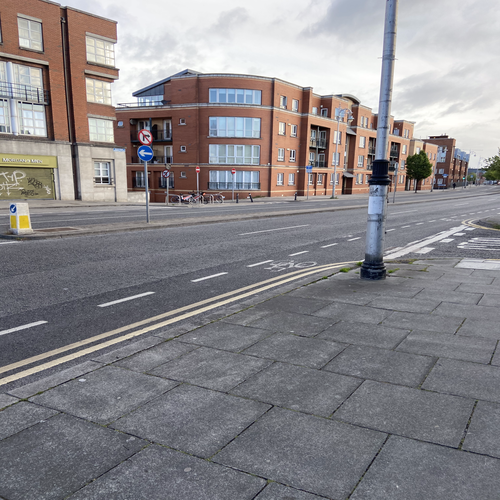Keep Left: (9, 200, 30, 234)
Left Turn: (134, 145, 156, 165)
No Turn: (139, 128, 152, 143)
